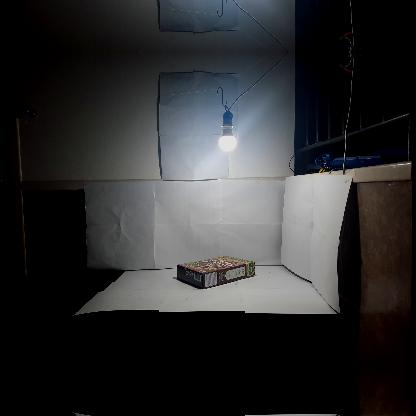Koko-Krunch: (176, 255, 254, 289)
